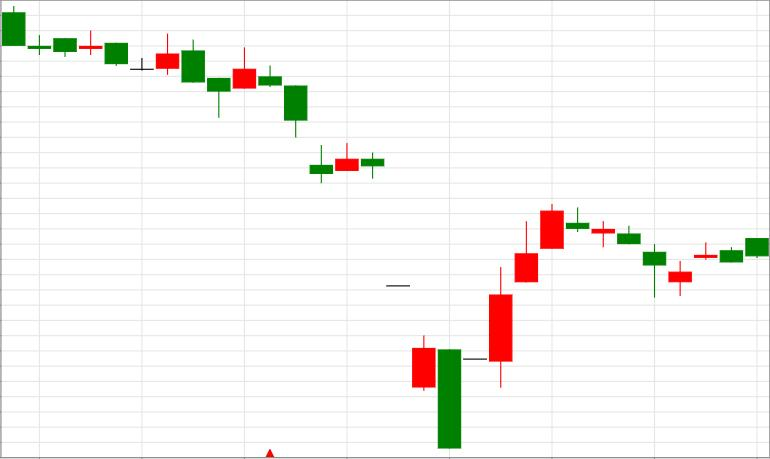three_white_soldiers_rise: (284, 86, 564, 448)
